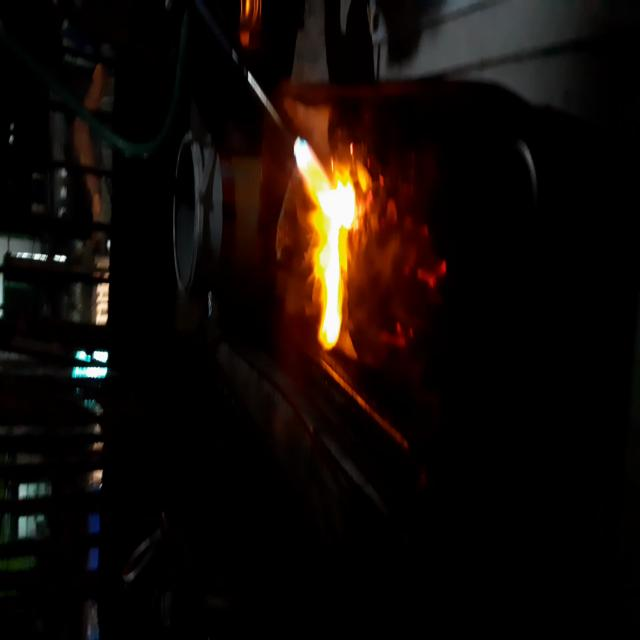Fire: (290, 119, 370, 361), (373, 186, 442, 342)
